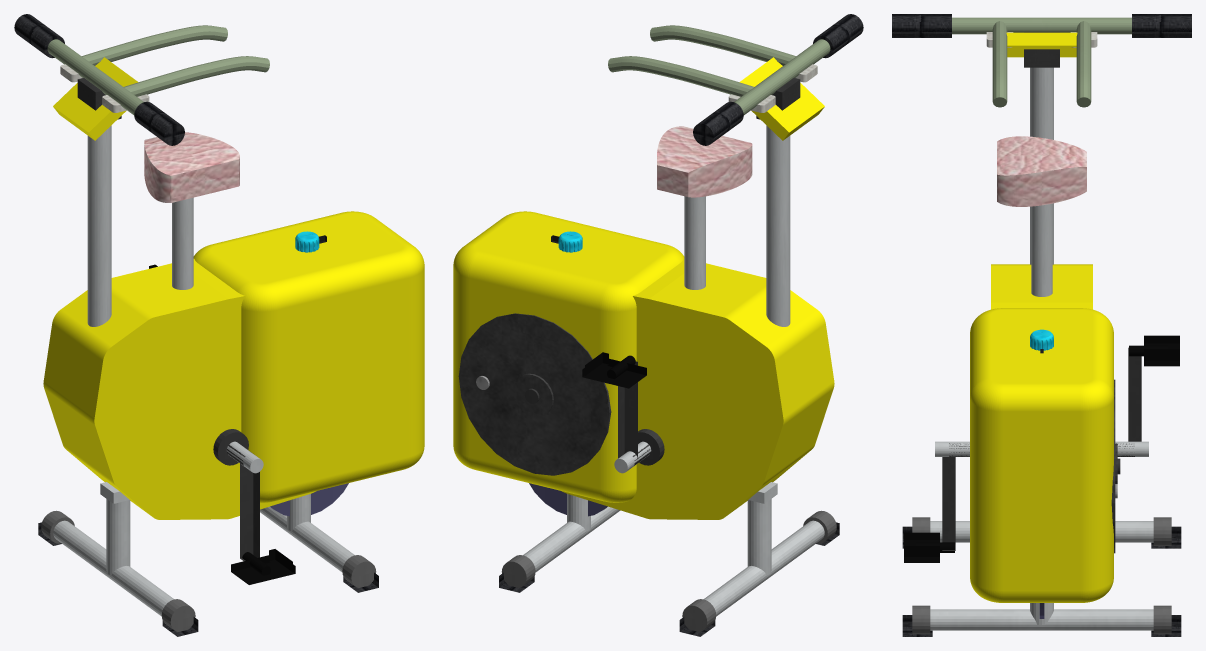
File: Sports_Exercise_bike__0036.glb
3 renders of one model, left to right at view 1: azimuth 30°, elevation 25°; view 2: azimuth 150°, elevation 25°; view 3: azimuth 270°, elevation 25°, orthographic.
Visible parts, largest first — view 1: body::resistance_housing, body::body_shroud, saddle_post::saddle_pad, handlebar_post::handlebar_post_tube, stabilizer_foot_1::stabilizer_tube, handlebar_post::console_pad, handlebar_post::aero_extension_1, handlebar_post::aero_extension_0, saddle_post::saddle_post_tube, crank::crank_body, handlebar_post::crossbar, stabilizer_foot_1::foot_leg (+11 smaller); view 2: body::body_shroud, body::resistance_housing, flywheel::flywheel_mass, saddle_post::saddle_pad, handlebar_post::handlebar_post_tube, stabilizer_foot_1::stabilizer_tube, handlebar_post::console_pad, handlebar_post::aero_extension_0, handlebar_post::aero_extension_1, saddle_post::saddle_post_tube, handlebar_post::crossbar, stabilizer_foot_1::foot_leg (+11 smaller); view 3: body::resistance_housing, saddle_post::saddle_pad, stabilizer_foot_0::stabilizer_tube, body::body_shroud, handlebar_post::crossbar, crank::crank_body, saddle_post::saddle_post_tube, handlebar_post::handlebar_post_tube, handlebar_post::console_pad, handlebar_post::side_grip_0, handlebar_post::side_grip_1, stabilizer_foot_1::stabilizer_tube (+11 smaller).
Part boxes in pixels (x1,y1,x2,y2): body::resistance_housing: [193, 211, 424, 502]; body::body_shroud: [43, 259, 316, 519]; saddle_post::saddle_pad: [144, 132, 239, 202]; handlebar_post::handlebar_post_tube: [87, 125, 111, 326]; stabilizer_foot_1::stabilizer_tube: [53, 520, 173, 616]; handlebar_post::console_pad: [53, 57, 138, 140]; handlebar_post::aero_extension_1: [124, 56, 269, 96]; handlebar_post::aero_extension_0: [81, 25, 227, 65]; saddle_post::saddle_post_tube: [172, 197, 193, 289]; crank::crank_body: [227, 443, 259, 561]; handlebar_post::crossbar: [47, 39, 143, 115]; stabilizer_foot_1::foot_leg: [106, 483, 130, 575]; body::body_shroud: [561, 259, 834, 519]; body::resistance_housing: [453, 211, 684, 502]; flywheel::flywheel_mass: [458, 313, 611, 475]; saddle_post::saddle_pad: [657, 126, 752, 197]; handlebar_post::handlebar_post_tube: [766, 125, 790, 326]; stabilizer_foot_1::stabilizer_tube: [704, 520, 824, 616]; handlebar_post::console_pad: [739, 57, 824, 140]; handlebar_post::aero_extension_0: [608, 56, 753, 96]; handlebar_post::aero_extension_1: [650, 25, 796, 65]; saddle_post::saddle_post_tube: [684, 196, 705, 289]; handlebar_post::crossbar: [734, 39, 830, 115]; stabilizer_foot_1::foot_leg: [747, 483, 771, 575]; body::resistance_housing: [970, 308, 1113, 602]; saddle_post::saddle_pad: [997, 136, 1086, 206]; stabilizer_foot_0::stabilizer_tube: [930, 609, 1153, 630]; body::body_shroud: [991, 264, 1092, 309]; handlebar_post::crossbar: [952, 17, 1131, 34]; crank::crank_body: [942, 347, 1141, 550]; saddle_post::saddle_post_tube: [1031, 203, 1052, 296]; handlebar_post::handlebar_post_tube: [1030, 67, 1053, 264]; handlebar_post::console_pad: [1006, 32, 1077, 57]; handlebar_post::side_grip_0: [1132, 14, 1191, 37]; handlebar_post::side_grip_1: [892, 14, 951, 37]; stabilizer_foot_1::stabilizer_tube: [930, 521, 1153, 542].
Bounding box in the file's own units: 0.6392 × 0.9576 × 0.5.
Materials: 14 (11 with a texture image).
